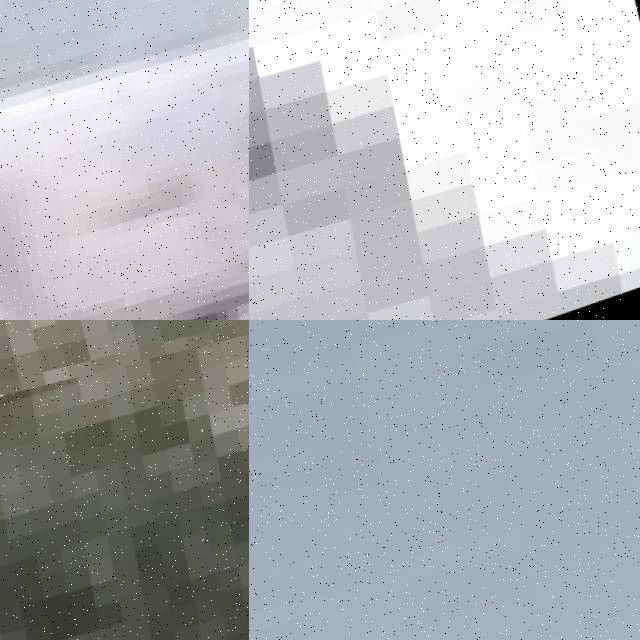drone: (249, 0, 640, 320), (0, 0, 249, 320), (0, 320, 249, 640)
